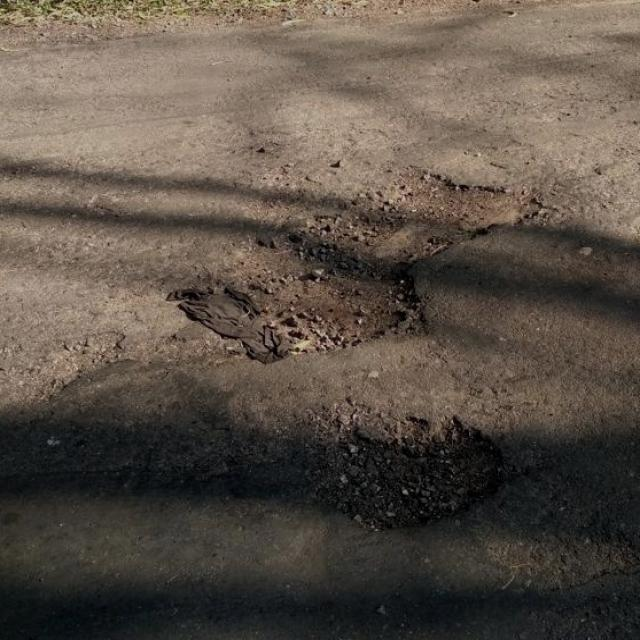road-pothole: (220, 168, 546, 353), (299, 420, 518, 538)
